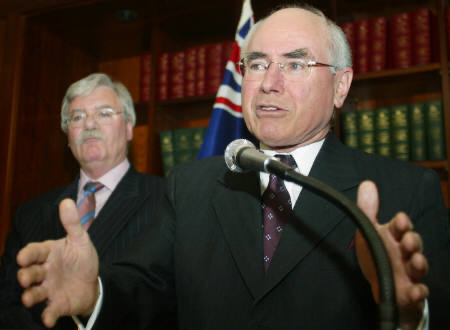Face: (239, 34, 332, 138), (64, 93, 126, 168)
